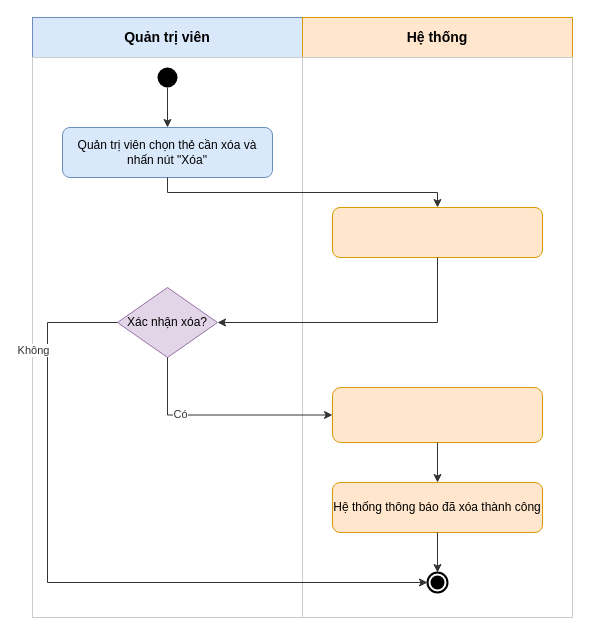
The diagram is 590 pixels wide and 635 high, and some of its shapes have lost their labels. Here are the shapes that lost their labels. From the top down, the box of each, then its label:
(332, 206, 542, 258): Hệ thống hiển thị hộp thoại xác nhận xóa
(332, 386, 542, 442): Hệ thống xóa thông tin thẻ trong CSDL và tệp ảnh
